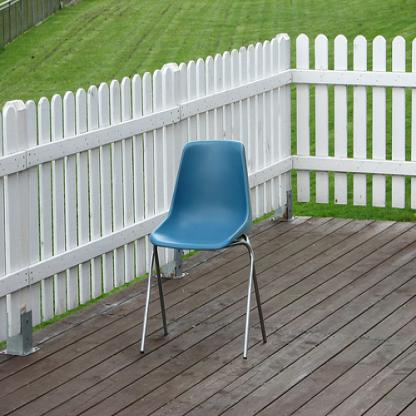chair: (141, 135, 267, 363)
